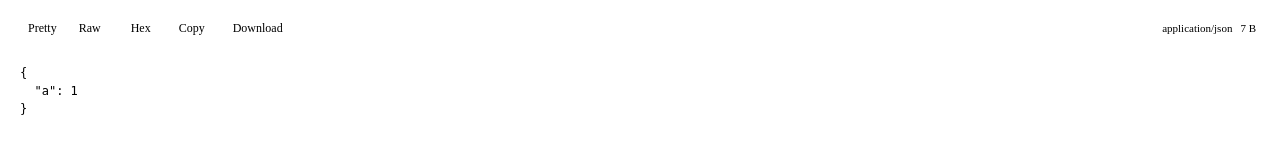
BodyPane hex viewer (U4) › a text body toggles between the text view and its UTF-8 bytes in hex
This screenshot has width=1273, height=160.
Click the button "Hex" at [141, 28], box [121,14,161,42]
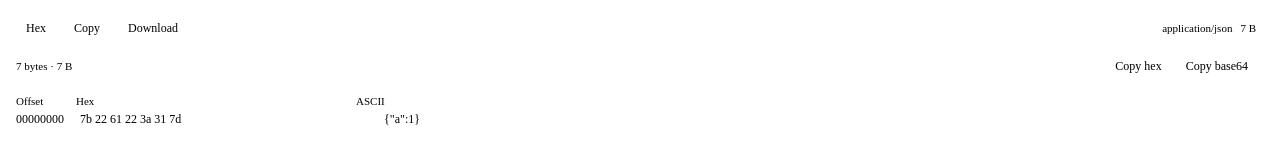
expect the row with test id "hex-row" shows "7b 22 61 22 3a 31 7d": met, box [80,112,265,126]
Click the button "Hex" at [36, 28], box [16,14,56,42]
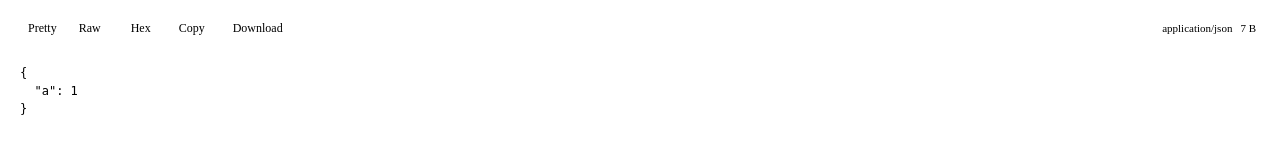
expect the element with test id "hex-view" is gone: met
